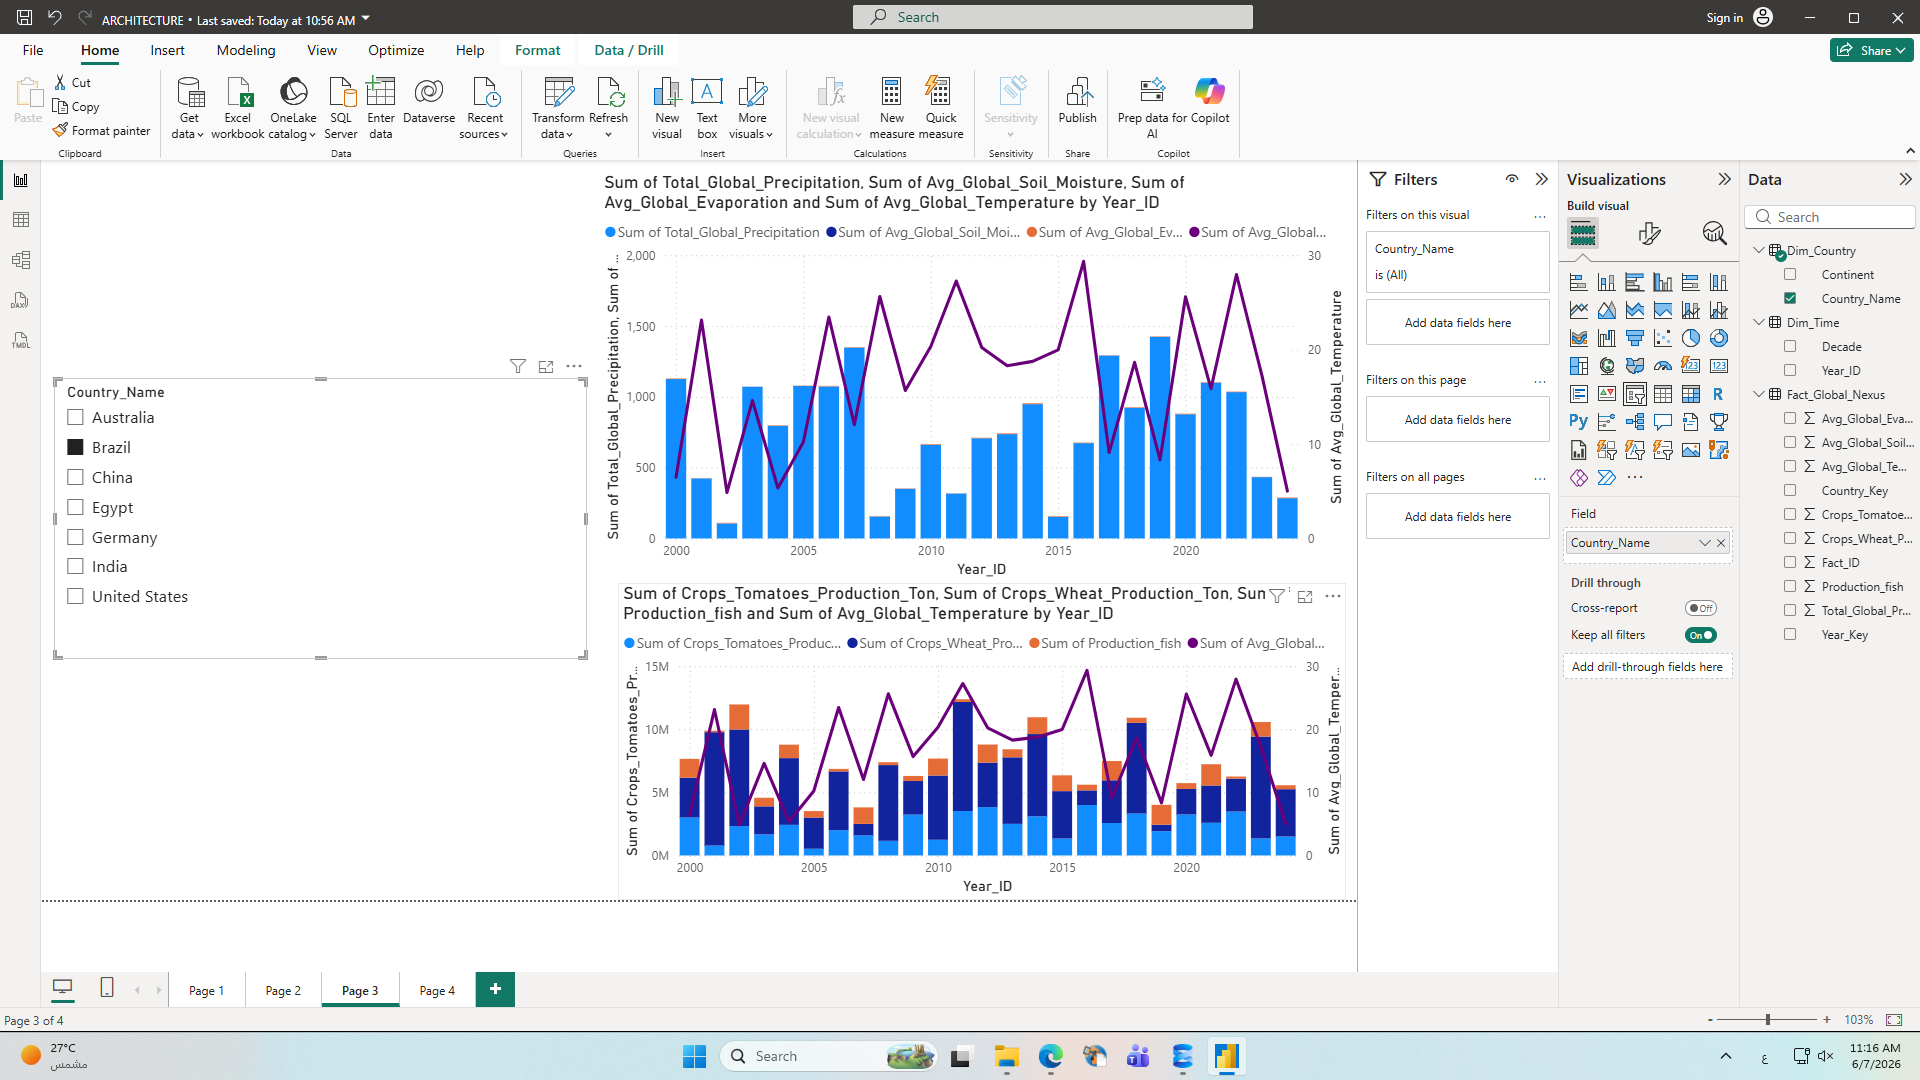

This screenshot's page, from the dashboard's own definition file:
{"tool":"powerbi","page":{"name":"Page 3","canvas":[1280,720],"ordinal":2},"visuals":[{"type":"lineStackedColumnComboChart","fields":{"Category":["Dim_Time.Year_ID"],"Y":["Sum(Fact_Global_Nexus.Total_Global_Precipitation)","Sum(Fact_Global_Nexus.Avg_Global_Soil_Moisture)","Sum(Fact_Global_Nexus.Avg_Global_Evaporation)"],"Y2":["Sum(Fact_Global_Nexus.Avg_Global_Temperature)"]},"box":[542.7,11.7,728.5,399.8],"z":0},{"type":"slicer","fields":{"Values":["Dim_Country.Country_Name"]},"box":[12.6,212,518.4,273.3],"z":1000},{"type":"lineStackedColumnComboChart","fields":{"Category":["Dim_Time.Year_ID"],"Y":["Sum(Fact_Global_Nexus.Crops_Tomatoes_Production_Ton)","Sum(Fact_Global_Nexus.Crops_Wheat_Production_Ton)","Sum(Fact_Global_Nexus.Production_MT)"],"Y2":["Sum(Fact_Global_Nexus.Avg_Global_Temperature)"]},"box":[561.2,411.4,708.1,308.3],"z":2000}]}

Visuals, with their boxes on the page's 1280x720 design canvas (x1, y1, x2, y2). These are canvas units, not pixel positions in the 1920x1080 screenshot, which may show the page scaled, cropped or inside an application window:
lineStackedColumnComboChart - Dim_Time.Year_ID x Sum(Fact_Global_Nexus.Total_Global_Precipitation): locate(543, 12, 1271, 412)
slicer - Dim_Country.Country_Name: locate(13, 212, 531, 485)
lineStackedColumnComboChart - Dim_Time.Year_ID x Sum(Fact_Global_Nexus.Crops_Tomatoes_Production_Ton): locate(561, 411, 1269, 720)
